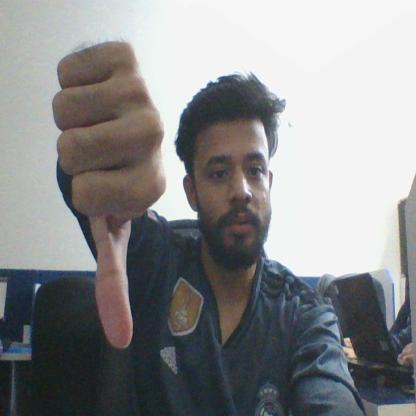thumbs-down: (55, 35, 173, 356)
